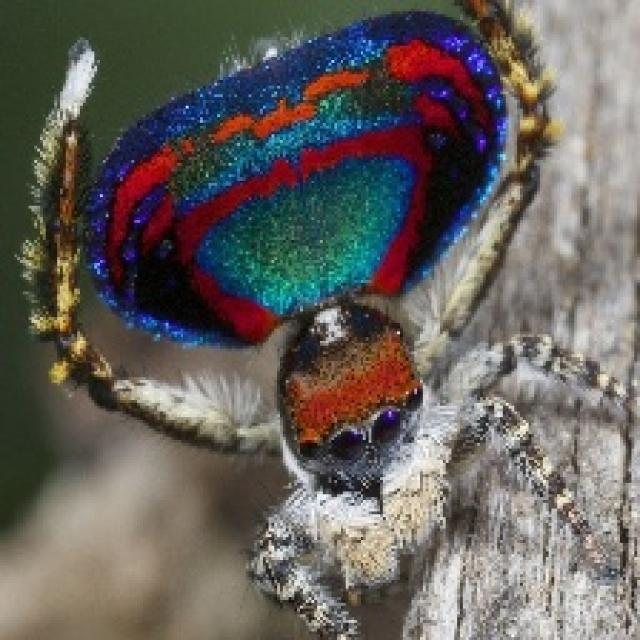Non venomous spider: (5, 6, 626, 626)
